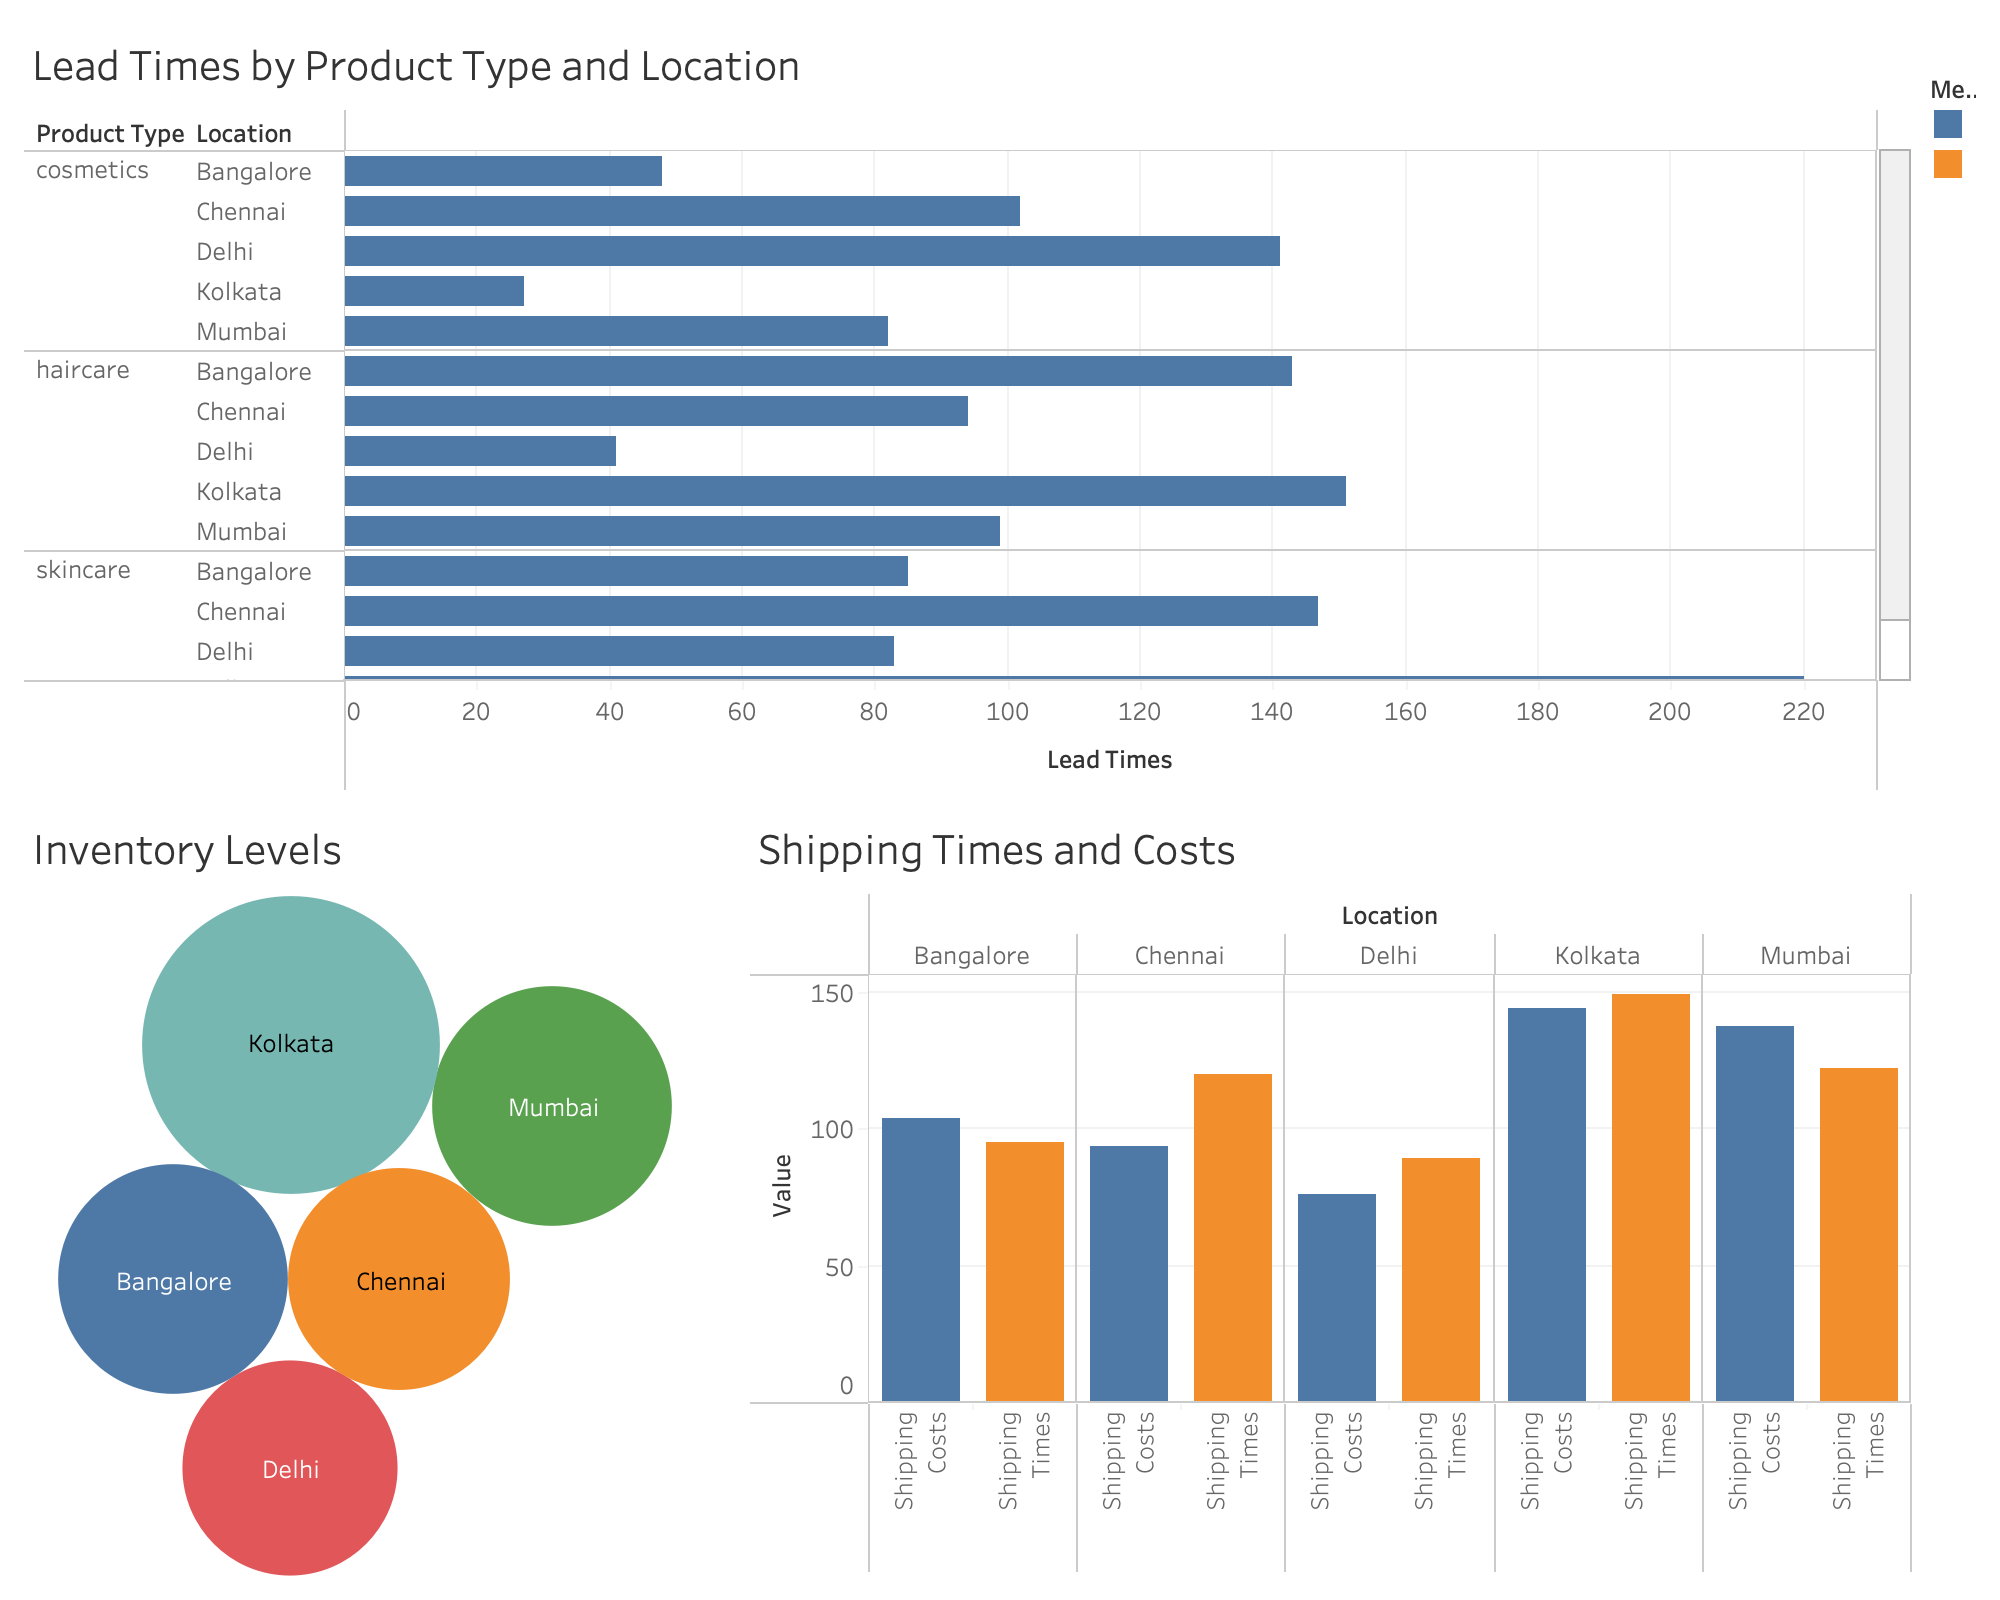

Layout of this report page (visuals, bound fields, positions):
{"tool":"tableau","page":{"name":"Dashboard 1","canvas":[1000,800],"ordinal":0},"visuals":[{"type":"worksheet","title":"Lead Times by Product Type and Location","mark":"Automatic","rows":["product_type","location"],"cols":["lead_times"],"box":[8,8,952,392]},{"type":"legend","title":"Inventory Levels","param":"[federated.05aqa000jqt6v817ws9ag0y1u8kx].[sum:stock_levels:qk]","box":[960,8,32,22]},{"type":"legend","title":"Shipping Times and Costs","param":"[federated.05aqa000jqt6v817ws9ag0y1u8kx].[:Measure Names]","box":[960,30,32,66]},{"type":"worksheet","title":"Inventory Levels","mark":"Circle","box":[8,400,363,392]},{"type":"worksheet","title":"Shipping Times and Costs","mark":"Automatic","cols":["location"],"box":[371,400,589,392]}]}

Visuals, with their boxes in screenshot pixels (x1, y1, x2, y2), scaled from the page's 1000x800 canvas onto the 2000x1600 screenshot:
"Lead Times by Product Type and Location" worksheet: bbox=(16, 16, 1920, 800)
"Inventory Levels" legend: bbox=(1920, 16, 1984, 60)
"Shipping Times and Costs" legend: bbox=(1920, 60, 1984, 192)
"Inventory Levels" worksheet (Circle marks): bbox=(16, 800, 742, 1584)
"Shipping Times and Costs" worksheet: bbox=(742, 800, 1920, 1584)
